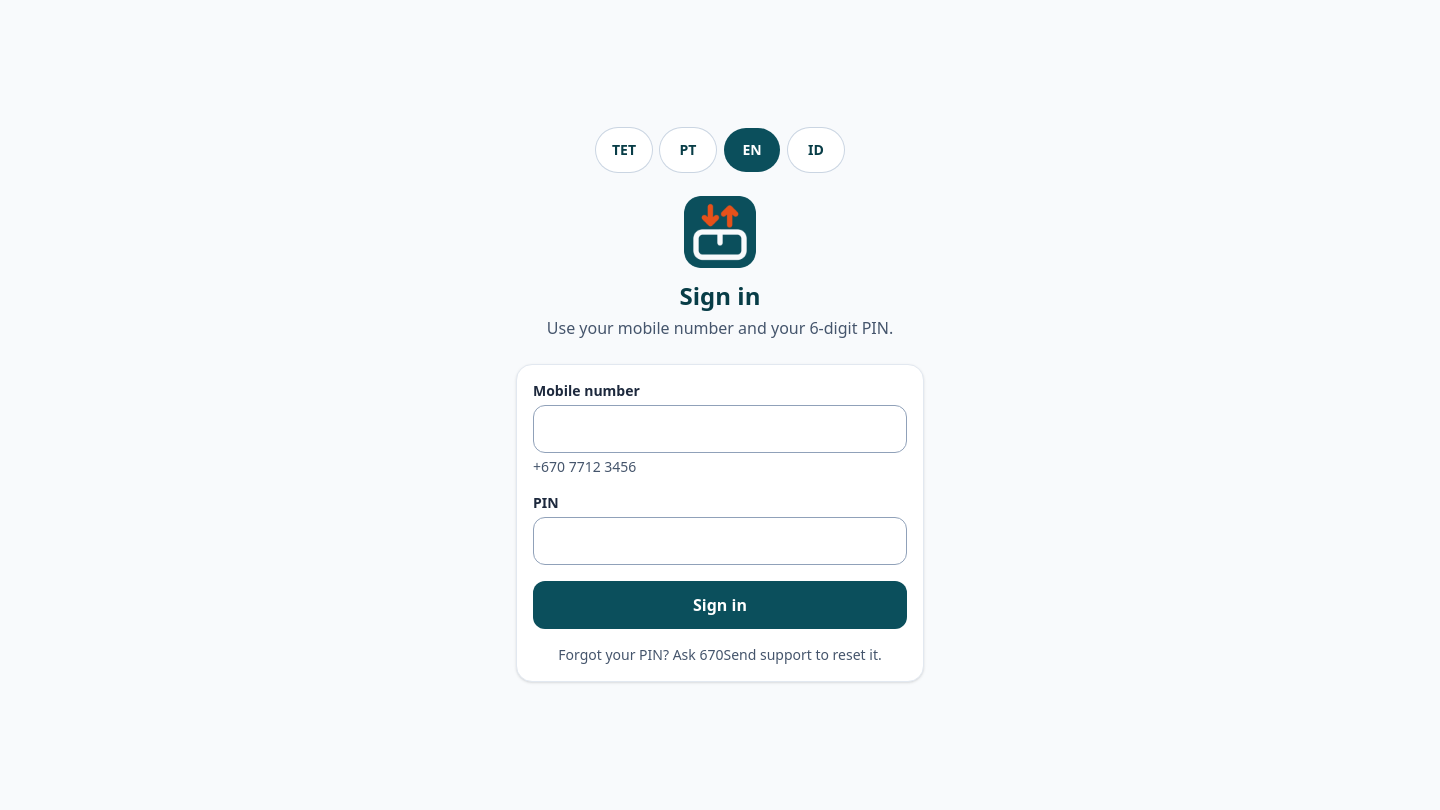
Scenario: sign in › signs in with the normalised number, lands on the agent home and shows the float
Type "7712 3456" into the field labelled "Mobile number" at (720, 429), box [533,405,907,453]
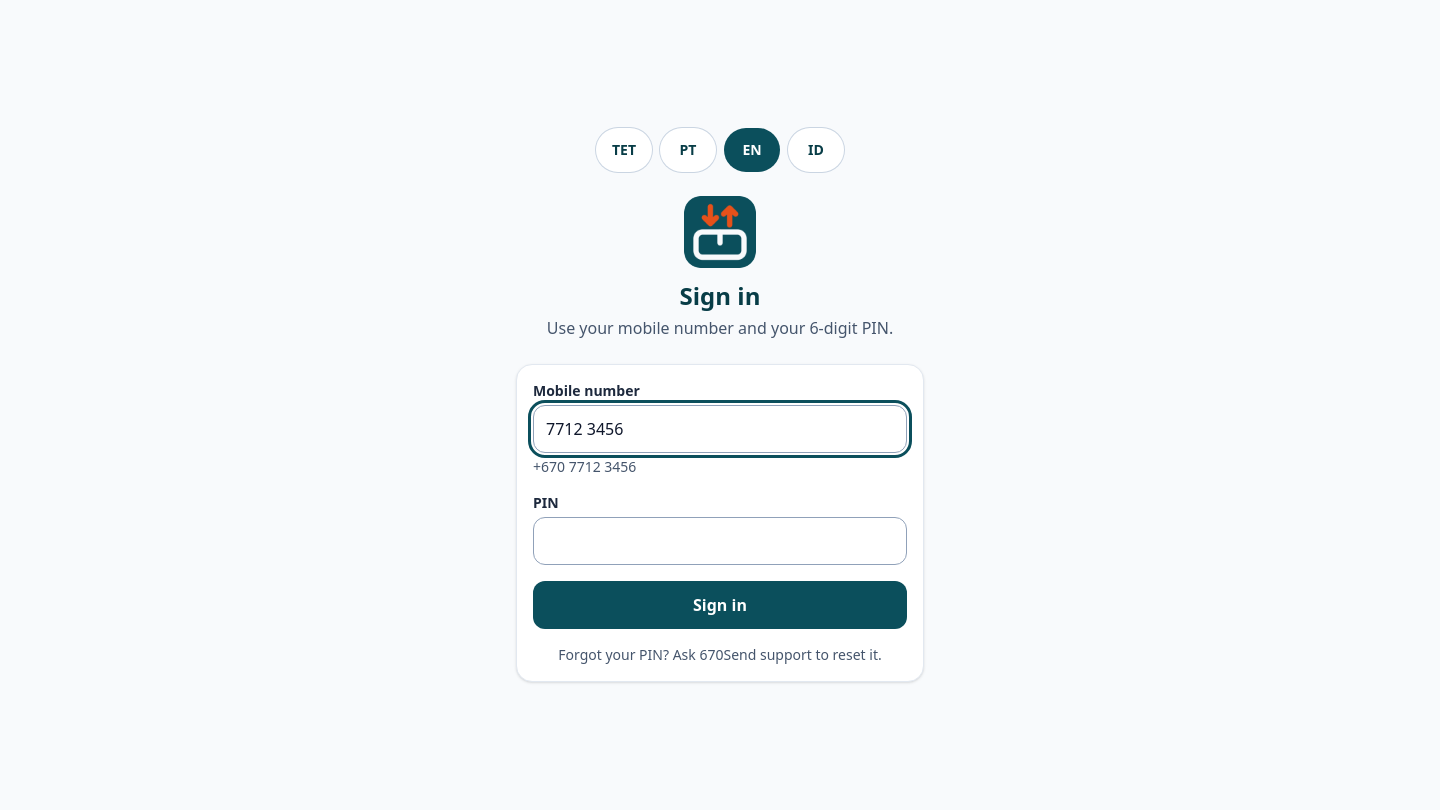
Type "482913" into the password field labelled "PIN" at (720, 541), box [533,517,907,565]
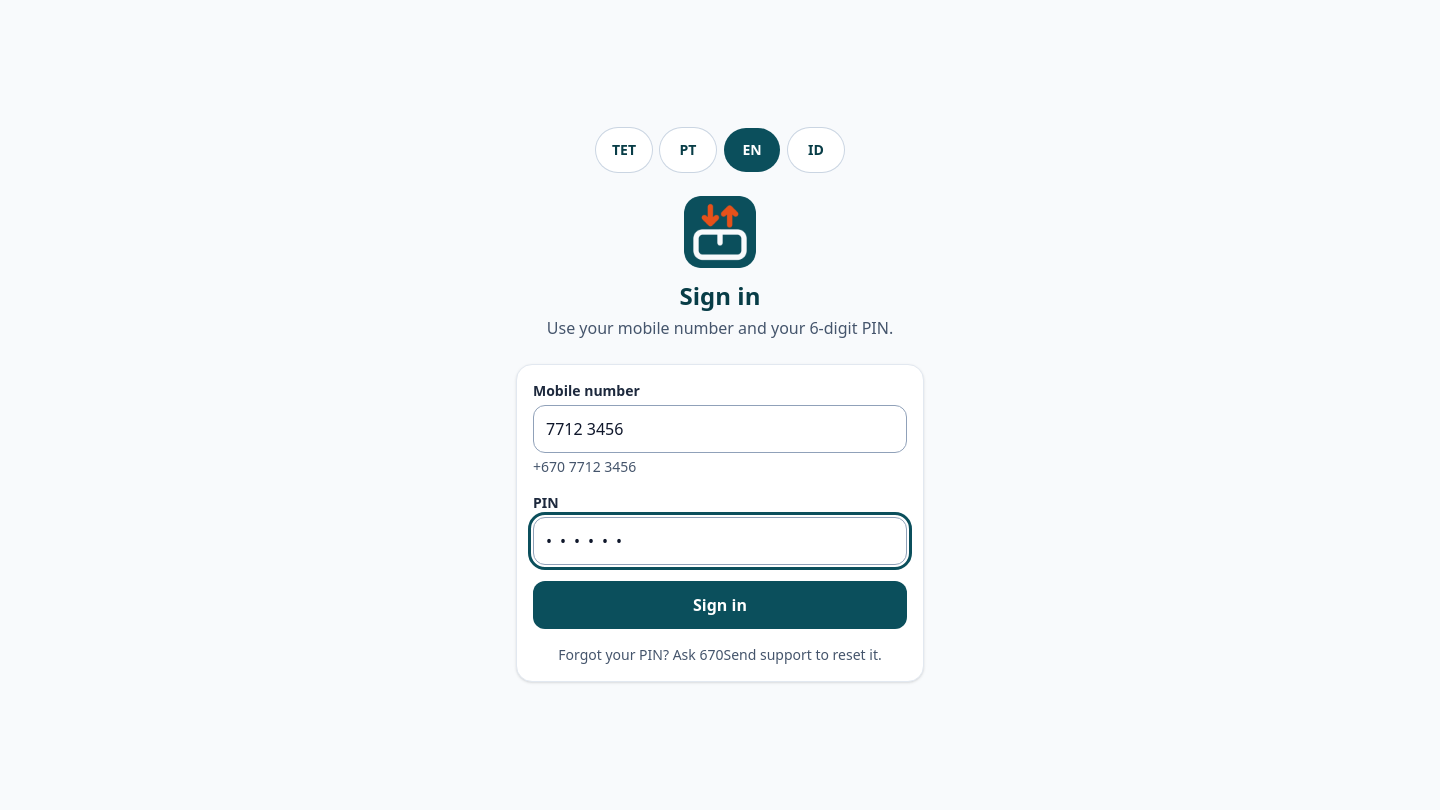
Click the button "Sign in" at (720, 605), box [533,581,907,629]
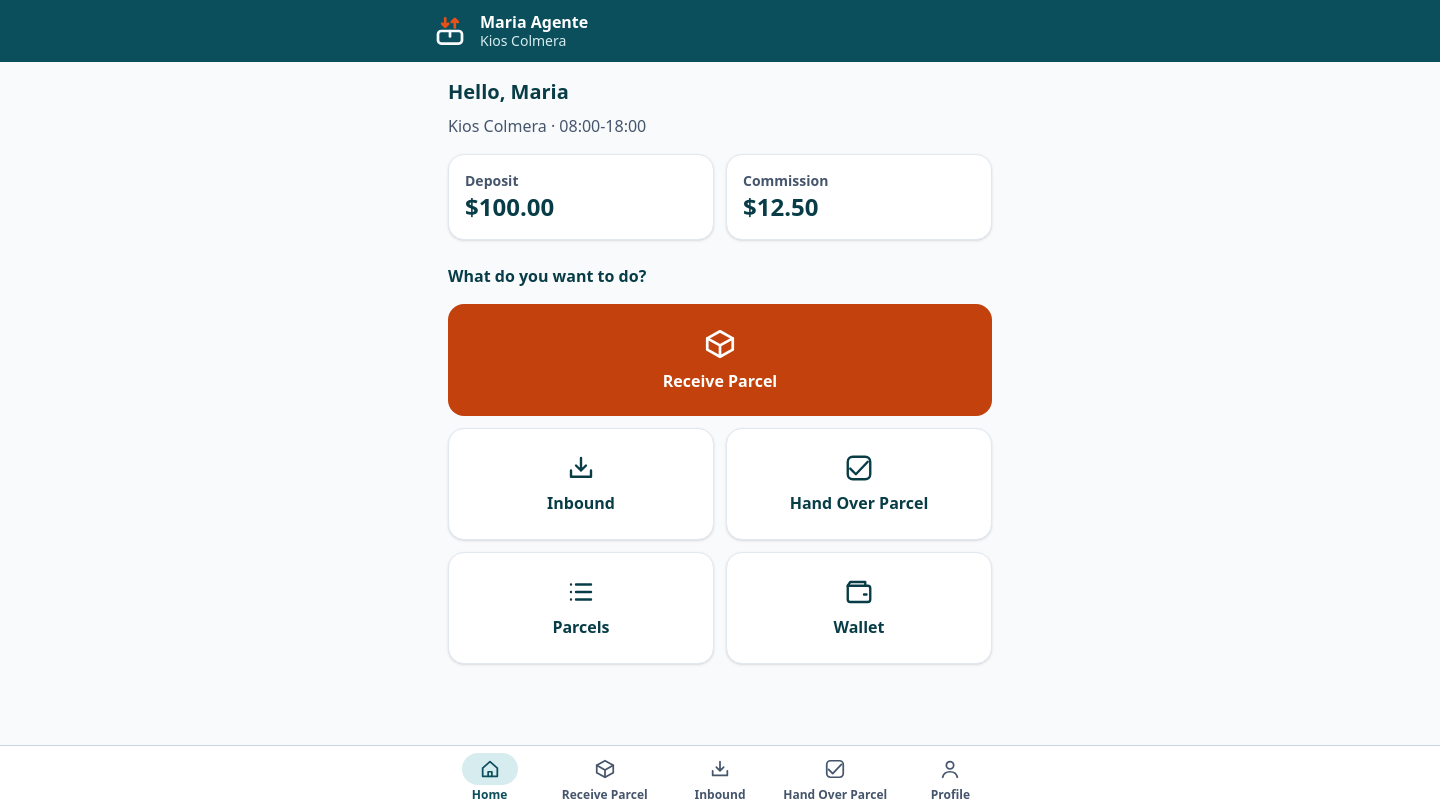
Check: the heading "Hello, Maria" is shown, box [448,78,569,106]
Check: the text with test id "deposit" reads "$100.00", box [465,190,554,222]
Check: the text "Kios Colmera" is shown, box [480,31,566,50]
